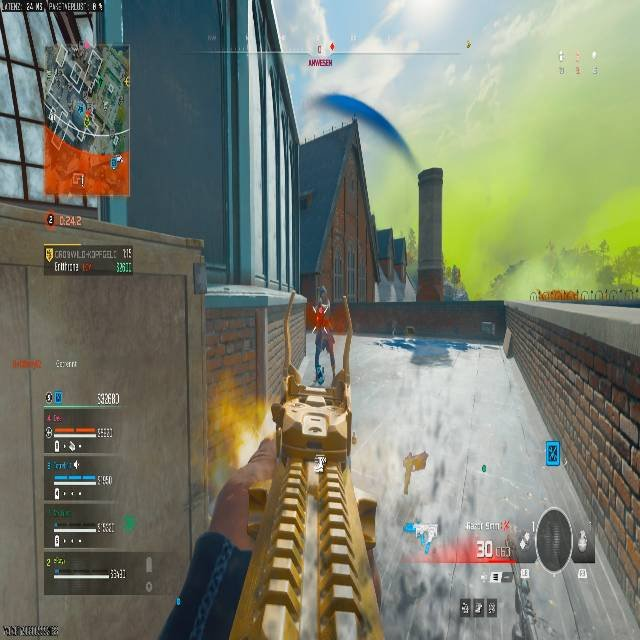player: (311, 305, 335, 383), (313, 334, 326, 384)
